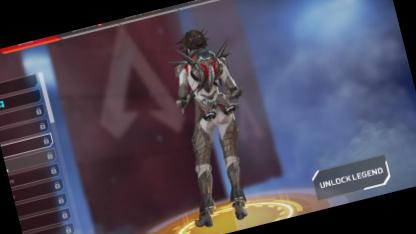Target: (164, 22, 255, 184)
